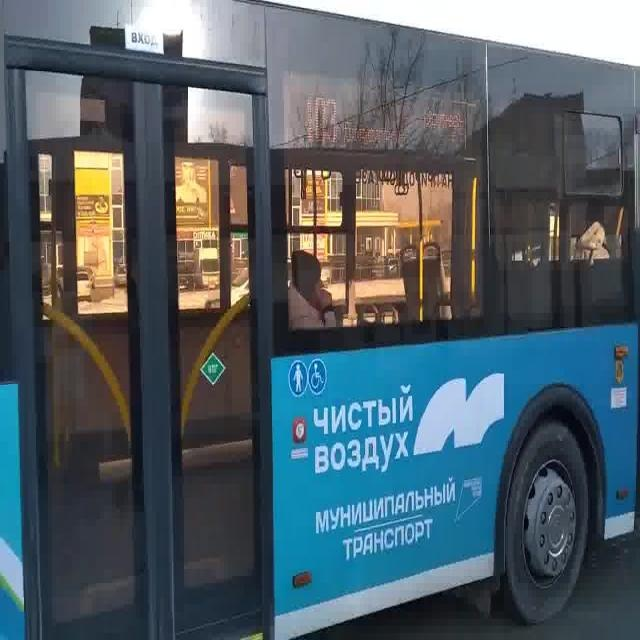Bus: (0, 1, 640, 639)
